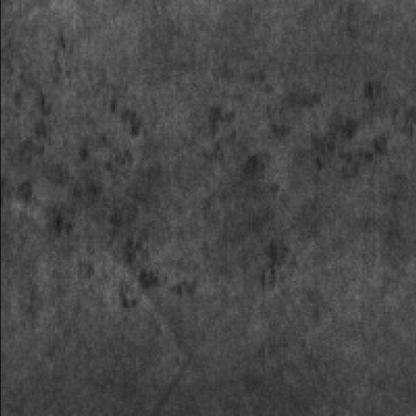rolled-in_scale: (10, 96, 202, 308), (210, 94, 412, 289)
